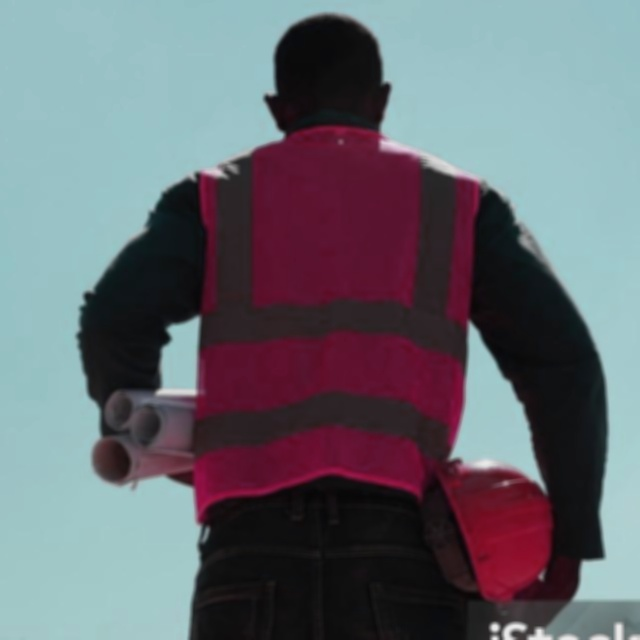Con_Chaleco: (201, 136, 475, 497)
Sin_Casco_Mascarrilla: (265, 10, 393, 139)
